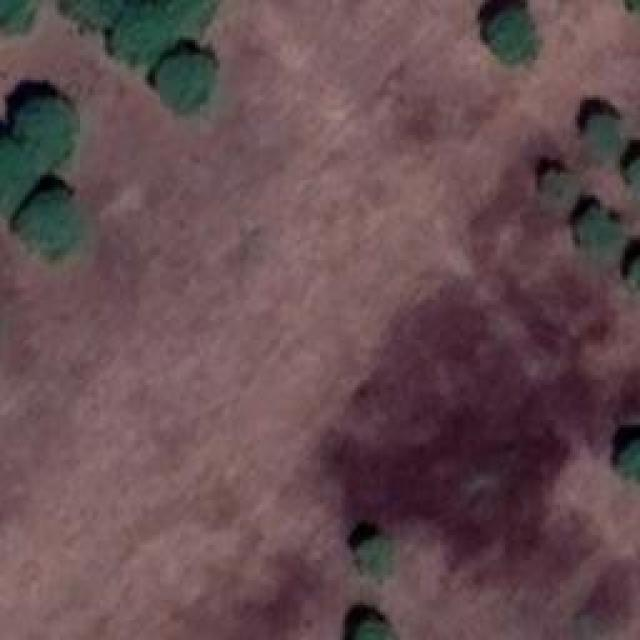Tree: (15, 183, 78, 258), (153, 55, 218, 120), (15, 98, 75, 158), (485, 10, 543, 65), (113, 5, 163, 65), (0, 140, 35, 210), (355, 535, 398, 585), (148, 0, 221, 28), (538, 170, 581, 215), (575, 208, 618, 253), (580, 115, 623, 158), (70, 0, 128, 25), (620, 440, 640, 493), (350, 620, 395, 640), (0, 0, 35, 25)
